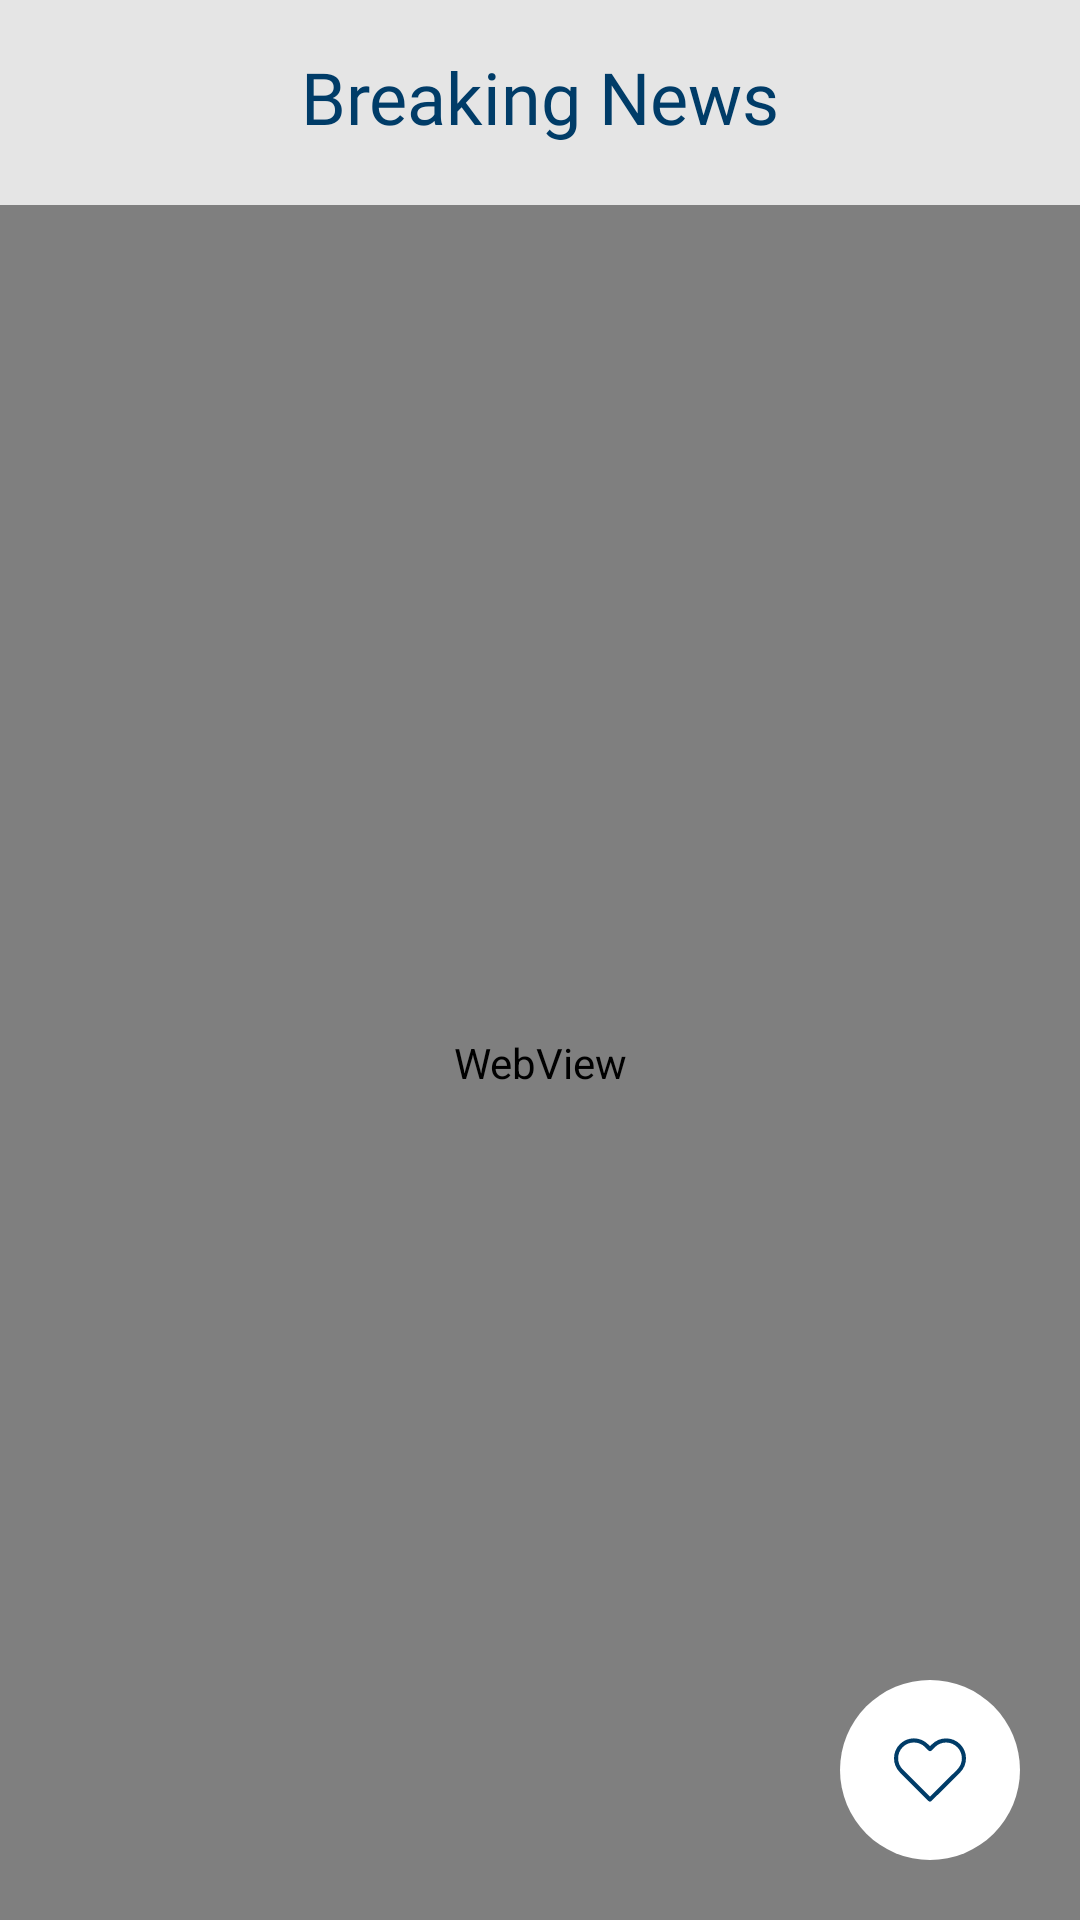

Screen size 1080x1920. Icon name, then its box in pixels as [x1=x1, y1=y1, x2=x2, y2=y2]:
notsaved: [x1=840, y1=1680, x2=1020, y2=1860]
